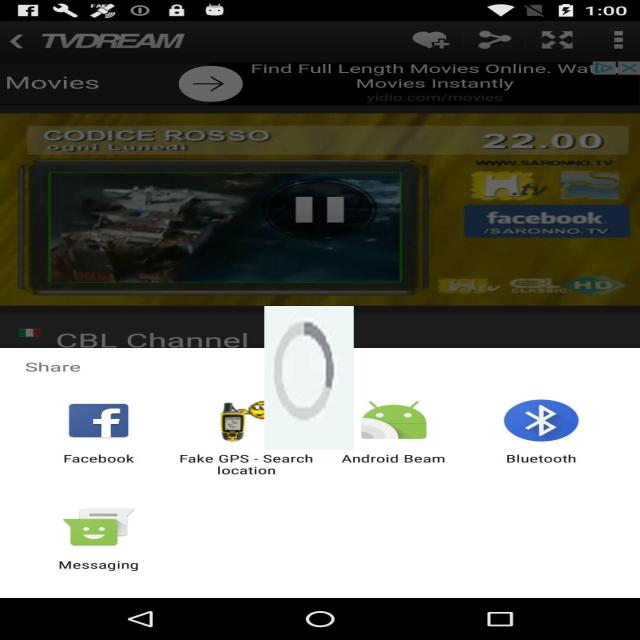misdirection: (264, 306, 354, 450)
